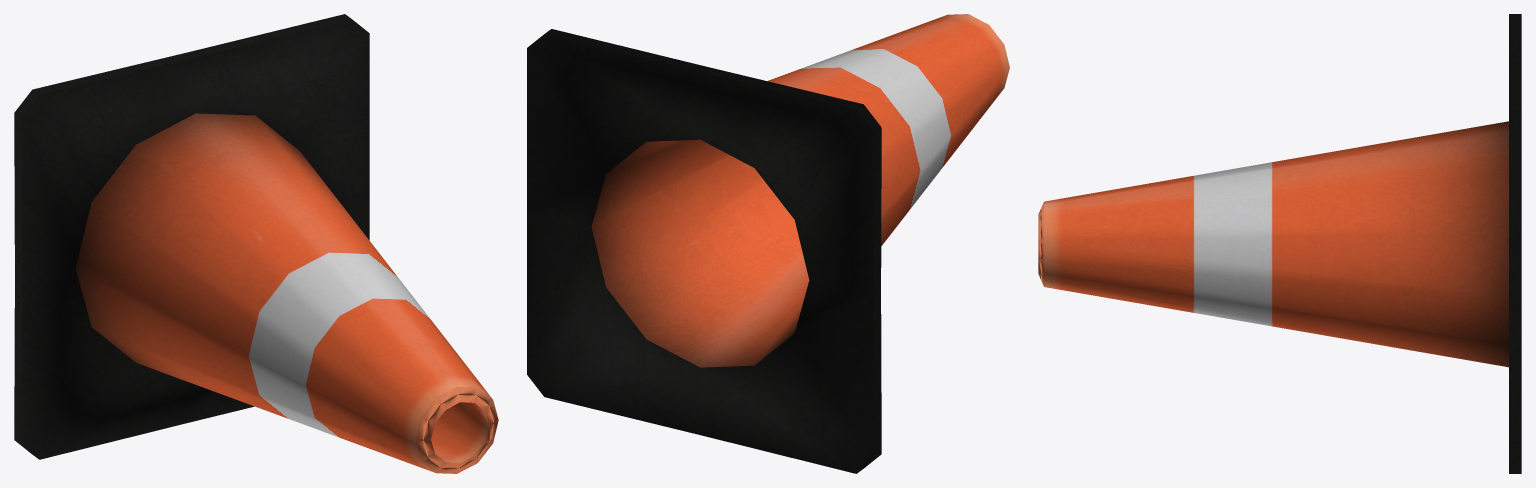
File: roadcone.fbx
3 views of the same model, side by side, from view 1: azimuth 30°, elevation 25°; view 2: azimuth 150°, elevation 25°; view 3: azimuth 270°, elevation 25° (orthographic). The views are drawn at different scales.
Visible parts, largest first — view 1: roadcone; view 2: roadcone; view 3: roadcone.
Boxes of the visible parts, x1,y1,x2,y2 form: roadcone: (14, 14, 498, 473); roadcone: (527, 14, 1009, 473); roadcone: (1038, 14, 1521, 473).
Size of the model in its own units: 0.501 by 0.502 by 0.677.
